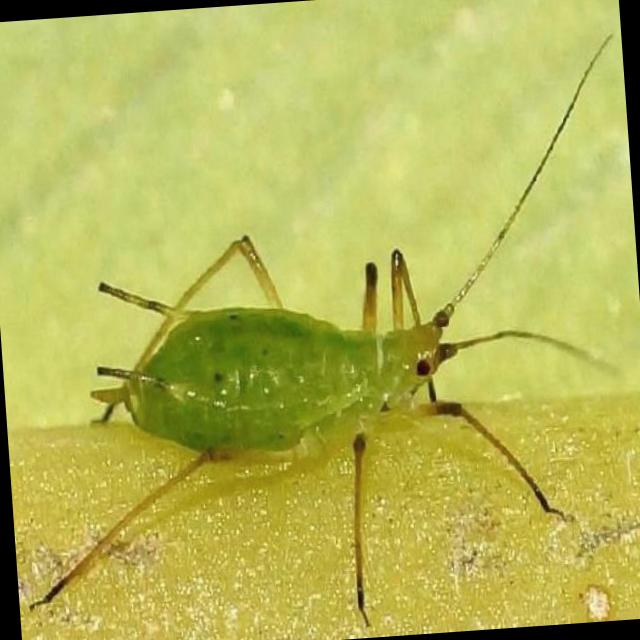aphid: (100, 235, 530, 523)
